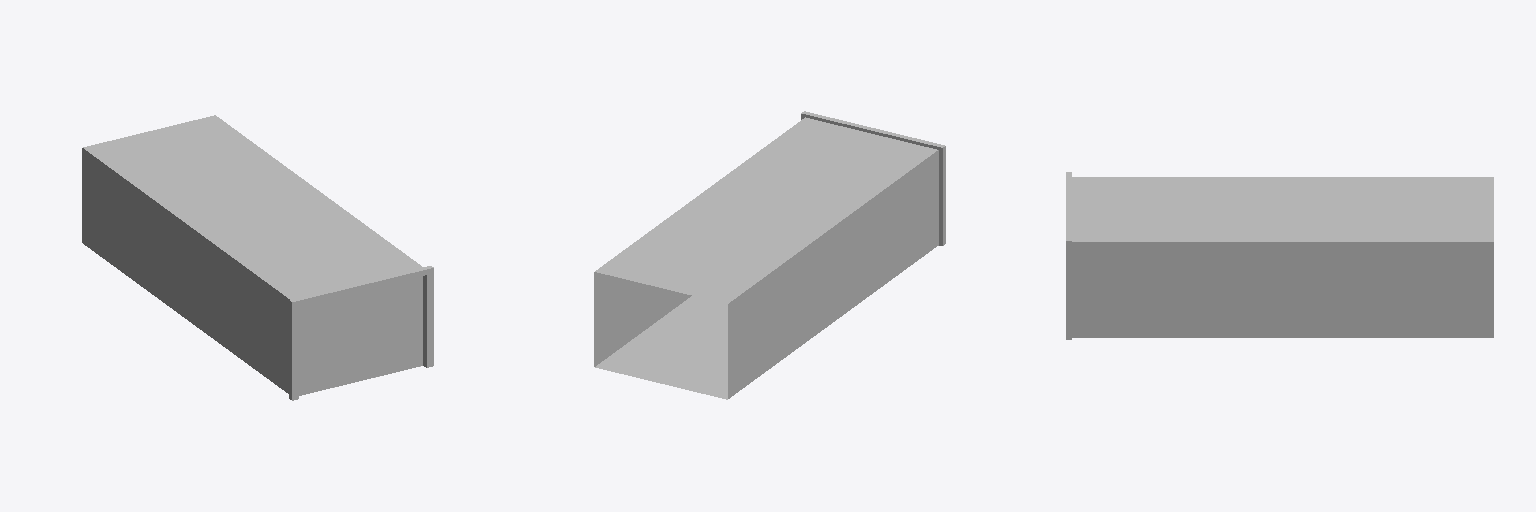
Rendered from sd_prop_container.obj.
3 renders of one model, left to right at view 1: azimuth 30°, elevation 25°; view 2: azimuth 150°, elevation 25°; view 3: azimuth 270°, elevation 25°, orthographic.
Visible parts, largest first — view 1: pCube1; view 2: pCube1; view 3: pCube1.
Part boxes in pixels (x1,y1,x2,y2): pCube1: (82, 115, 433, 400); pCube1: (594, 111, 945, 399); pCube1: (1066, 172, 1493, 339).
Size of the model in its own units: 6.21 by 4.12 by 16.24.